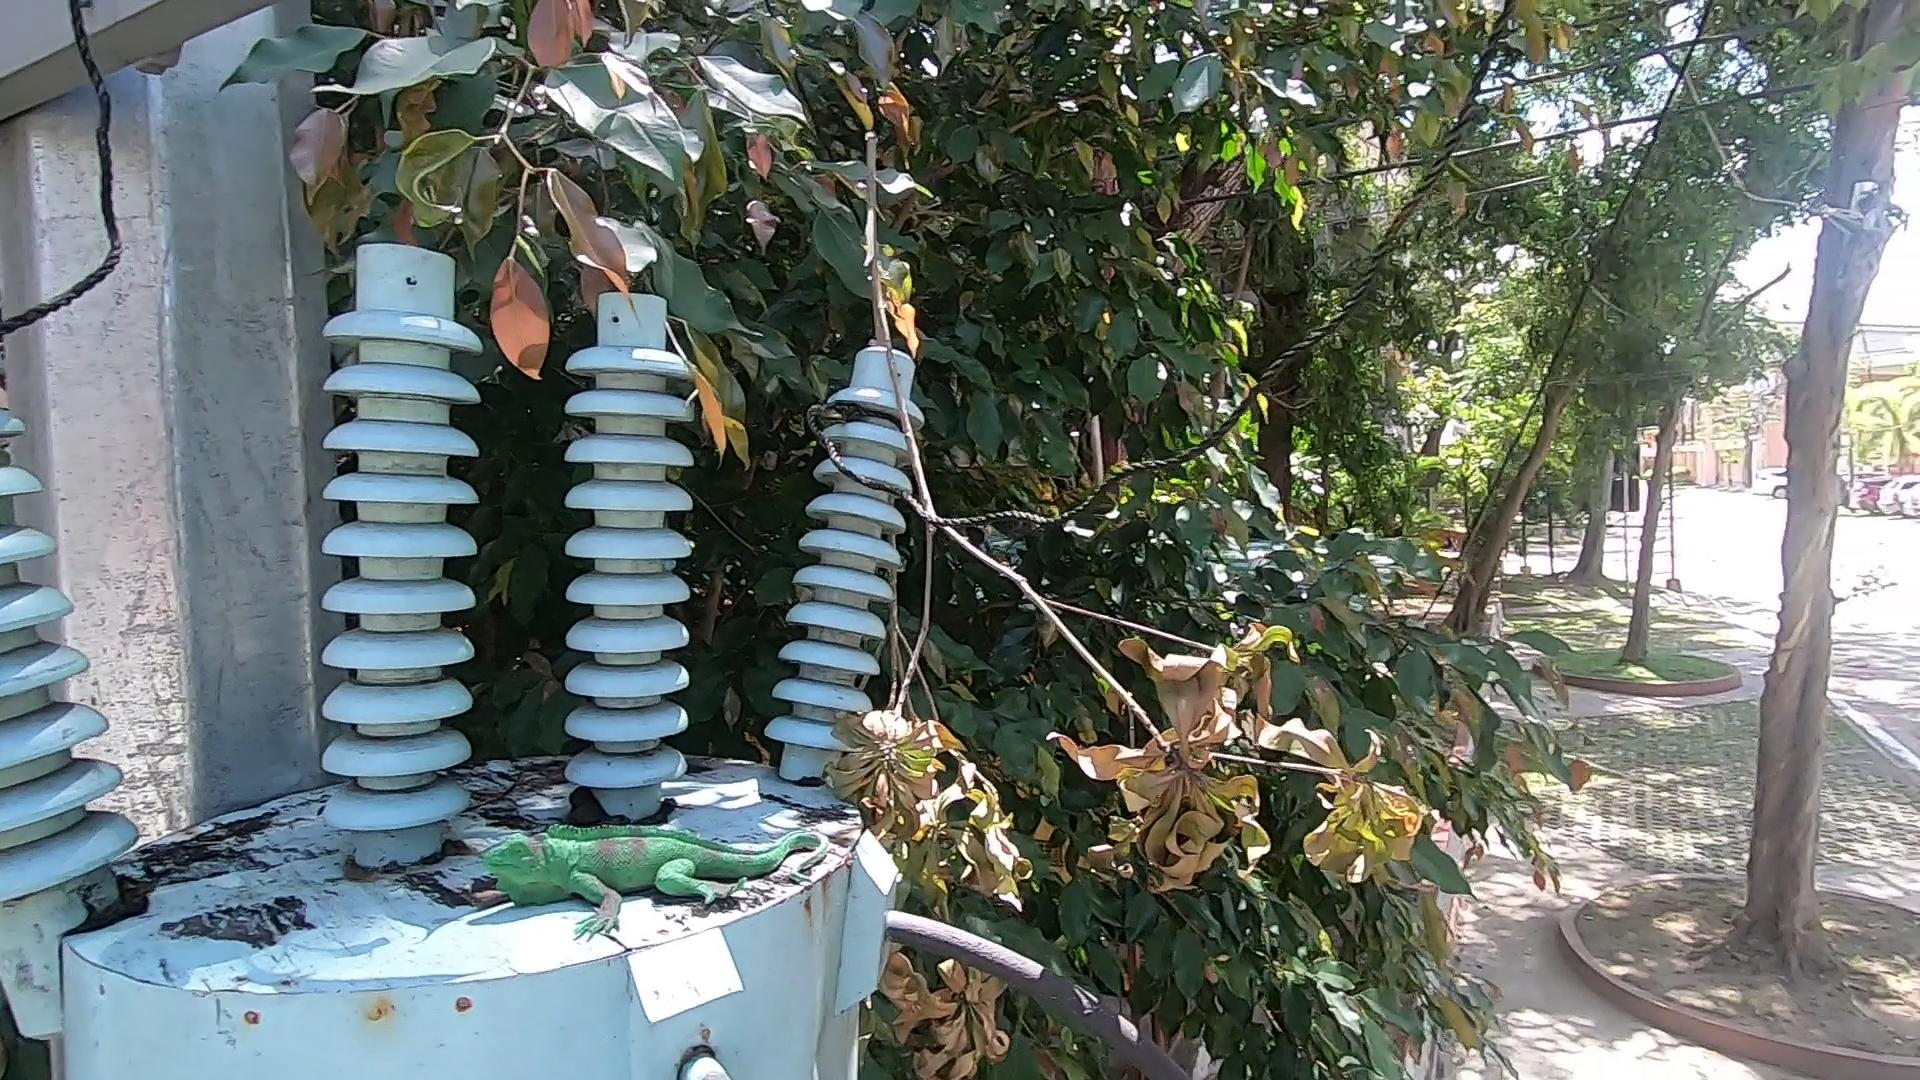branch with leaves: (811, 124, 1455, 1077)
leaf: (558, 796, 612, 824), (642, 793, 683, 822), (456, 889, 495, 916)
tree branch: (475, 754, 531, 819)
